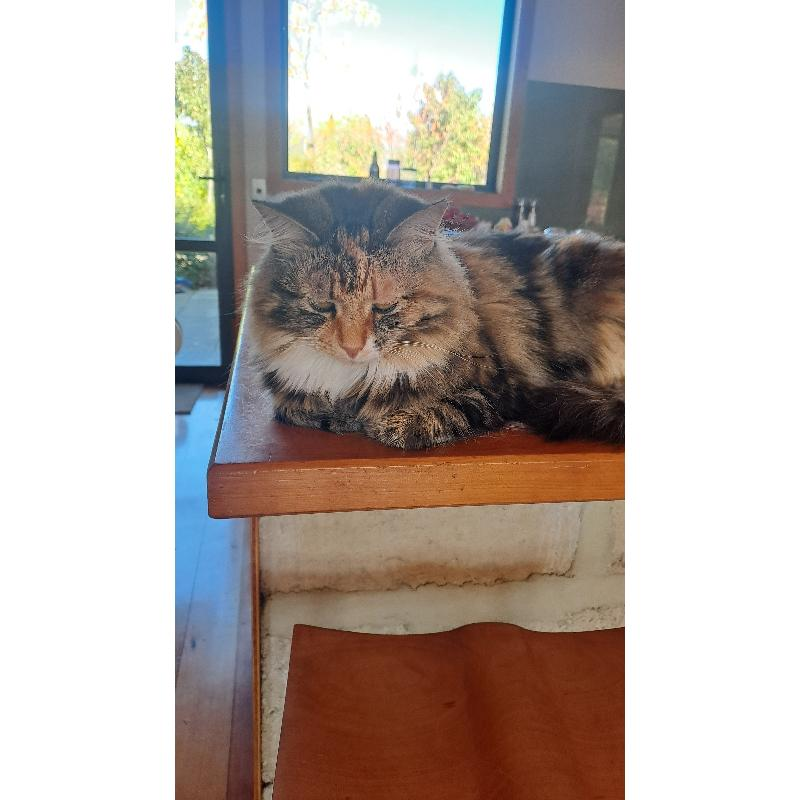red: (241, 182, 625, 456)
